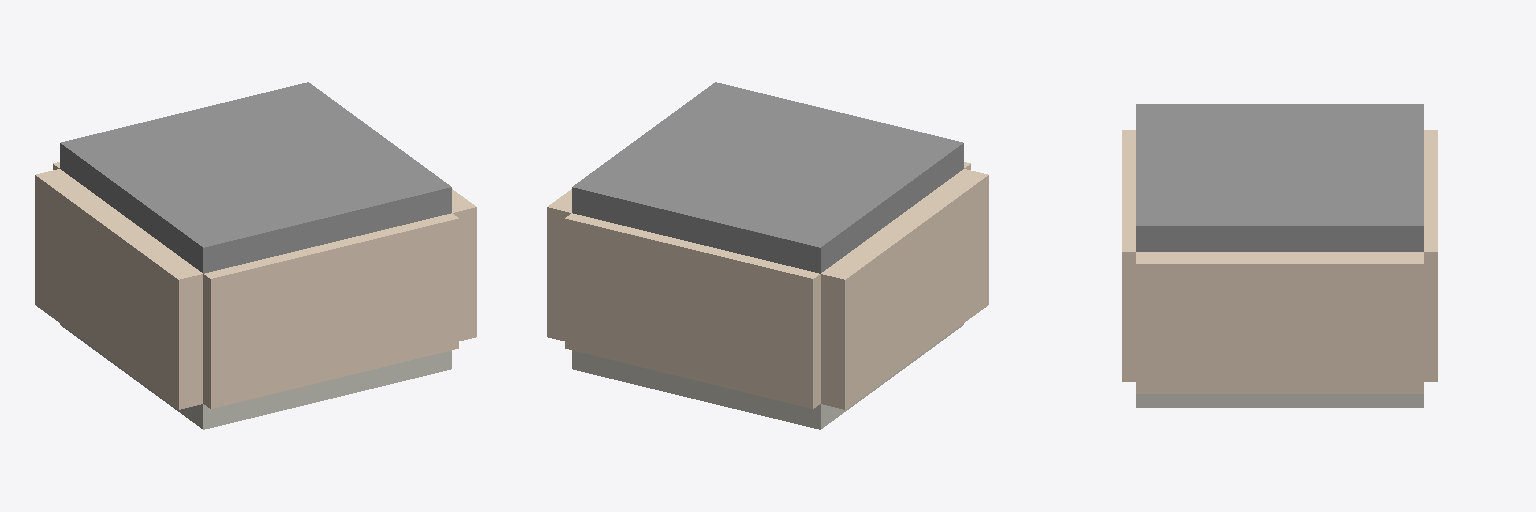
3 renders of one model, left to right at view 1: azimuth 30°, elevation 25°; view 2: azimuth 150°, elevation 25°; view 3: azimuth 270°, elevation 25°, orthographic.
Parts seen in each view (by area): view 1: Cube.005_Cube.001, Cube.004_Cube.011, Cube.002_Cube.006, Cube, Cube.001_Cube.003; view 2: Cube.005_Cube.001, Cube.003_Cube.010, Cube.002_Cube.006, Cube, Cube.001_Cube.003; view 3: Cube.005_Cube.001, Cube.001_Cube.003, Cube, Cube.004_Cube.011, Cube.003_Cube.010.
Boxes of the visible parts, x1=… form: Cube.005_Cube.001: x1=60, y1=82, x2=451, y2=273; Cube.004_Cube.011: x1=203, y1=213, x2=458, y2=408; Cube.002_Cube.006: x1=35, y1=169, x2=202, y2=409; Cube: x1=60, y1=324, x2=451, y2=429; Cube.001_Cube.003: x1=452, y1=189, x2=476, y2=340; Cube.005_Cube.001: x1=572, y1=82, x2=963, y2=273; Cube.003_Cube.010: x1=565, y1=213, x2=820, y2=408; Cube.002_Cube.006: x1=821, y1=169, x2=988, y2=409; Cube: x1=572, y1=324, x2=963, y2=429; Cube.001_Cube.003: x1=547, y1=189, x2=571, y2=340; Cube.005_Cube.001: x1=1136, y1=104, x2=1423, y2=251; Cube.001_Cube.003: x1=1136, y1=252, x2=1423, y2=393; Cube: x1=1136, y1=394, x2=1423, y2=407; Cube.004_Cube.011: x1=1122, y1=130, x2=1135, y2=381; Cube.003_Cube.010: x1=1424, y1=130, x2=1437, y2=381.
Bounding box in the file's own units: 24 × 14 × 22.
6 materials, 2 textured.